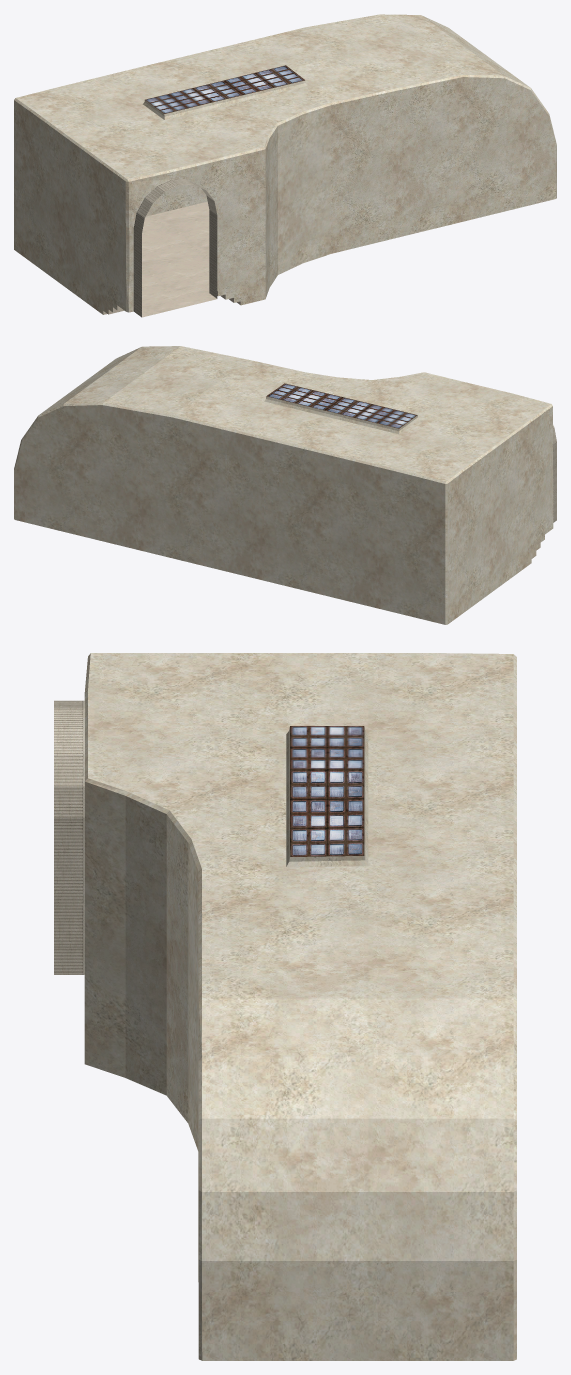
Rendered from ply_tato_house_sm_s01_fp1_r3_livingroom_mesh_r3.fbx.
3 views of the same model, one above another, from view 1: azimuth 30°, elevation 25°; view 2: azimuth 150°, elevation 25°; view 3: azimuth 270°, elevation 25° (orthographic). The views are drawn at different scales.
Visible parts, largest first — view 1: mesh_node; view 2: mesh_node; view 3: mesh_node.
Part boxes in pixels (box(x1,y1,x2,y2)): mesh_node: box(14, 14, 556, 317); mesh_node: box(14, 346, 556, 624); mesh_node: box(54, 653, 516, 1360).
Size of the model in its own units: 14.62 by 4.76 by 6.76.
